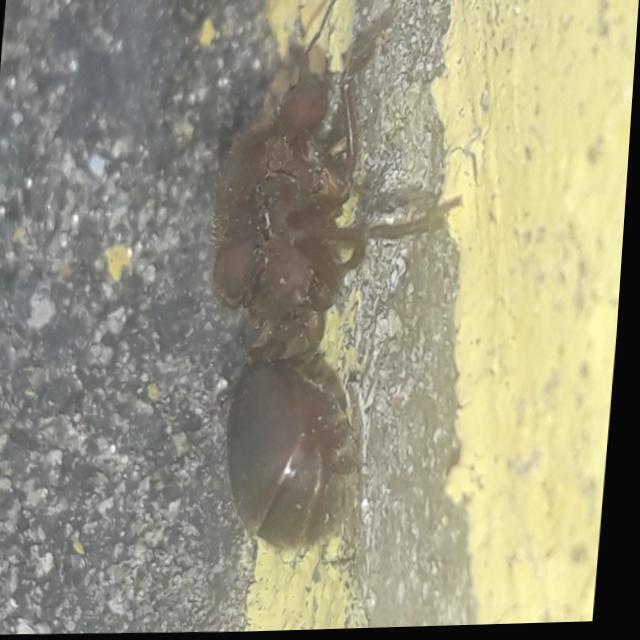Alive-Female-Dealate: (189, 0, 480, 557)
